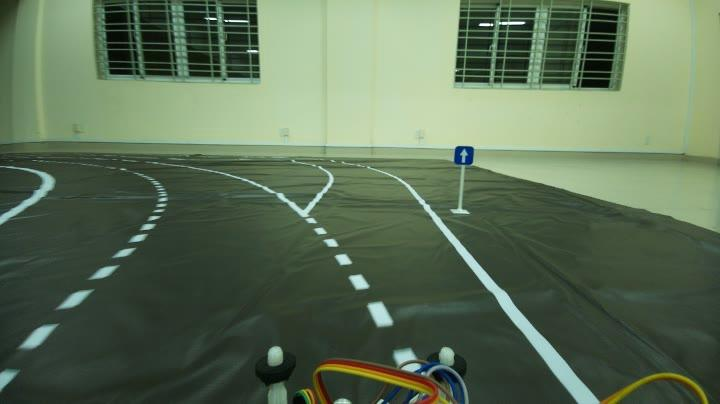onewayroad: (451, 140, 476, 170)
